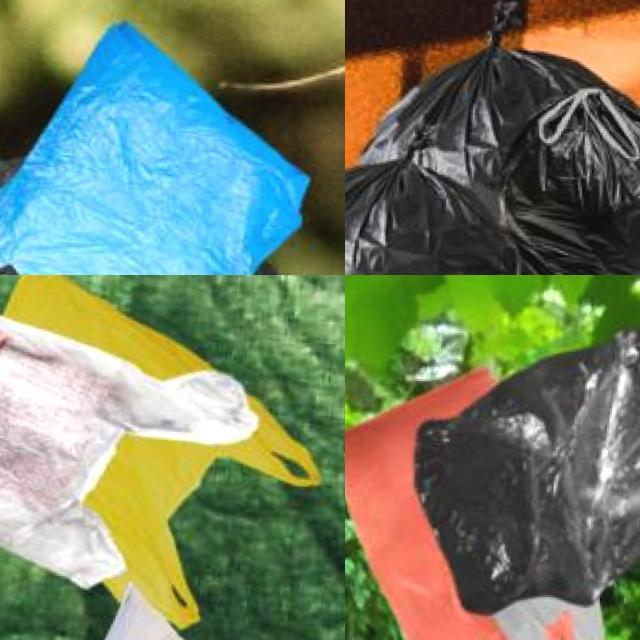waste: (0, 275, 324, 632), (0, 275, 310, 617), (0, 10, 320, 275), (345, 363, 640, 640), (345, 12, 640, 275), (409, 317, 640, 627), (73, 589, 266, 640)
